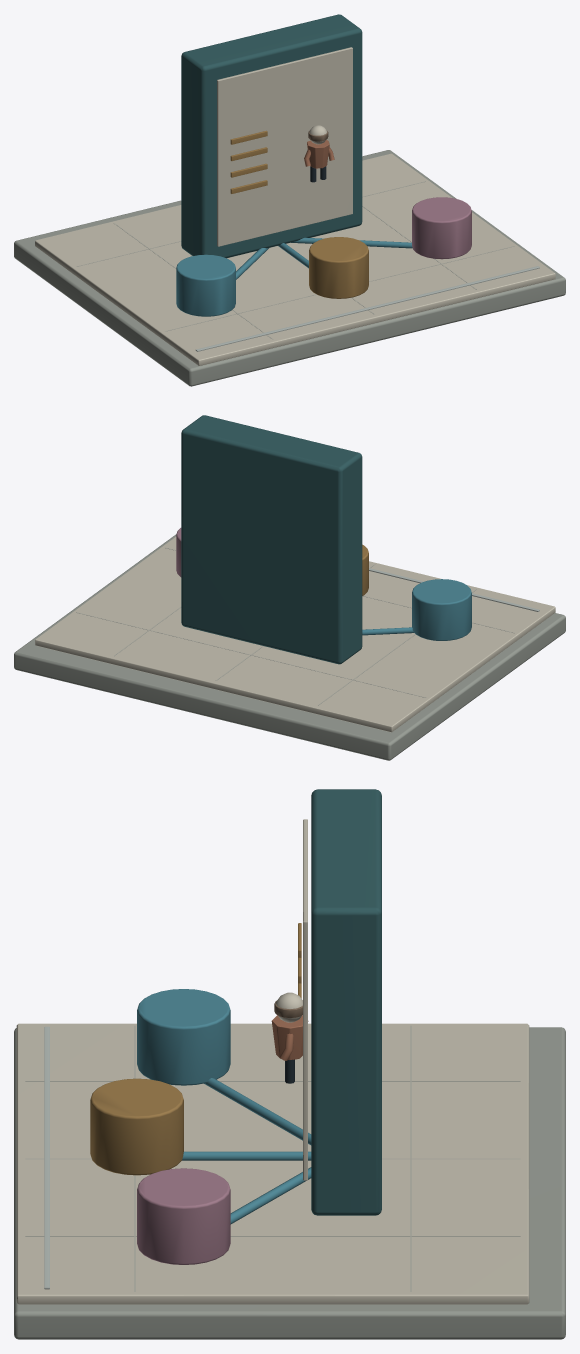
Rendered from idea-29f67590.glb.
3 renders of one model, top to bottom at view 1: azimuth 30°, elevation 25°; view 2: azimuth 150°, elevation 25°; view 3: azimuth 270°, elevation 25°, orthographic. The views are drawn at different scales.
Visible parts, largest first — view 1: Gamer Passport; view 2: Gamer Passport; view 3: Gamer Passport.
Boxes of the visible parts, x1=… form: Gamer Passport: x1=14, y1=14, x2=565, y2=386; Gamer Passport: x1=14, y1=415, x2=565, y2=760; Gamer Passport: x1=14, y1=789, x2=565, y2=1339.
Size of the model in its own units: 4.8 by 2.72 by 3.9.
